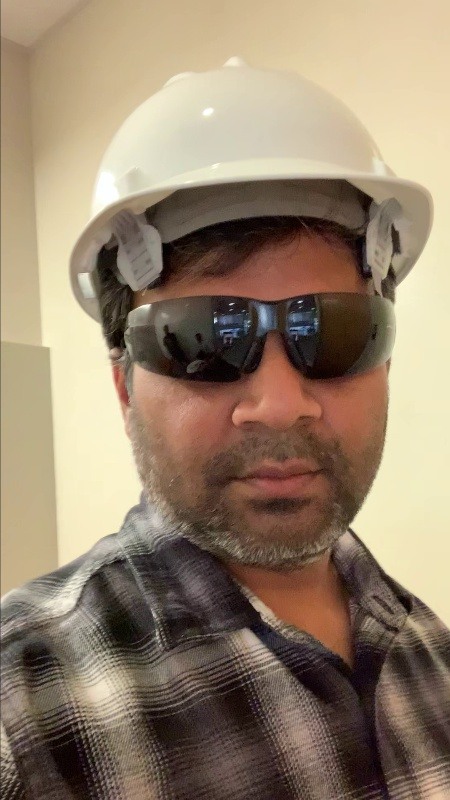glasses: (109, 296, 405, 378)
helmet: (97, 50, 407, 176)
